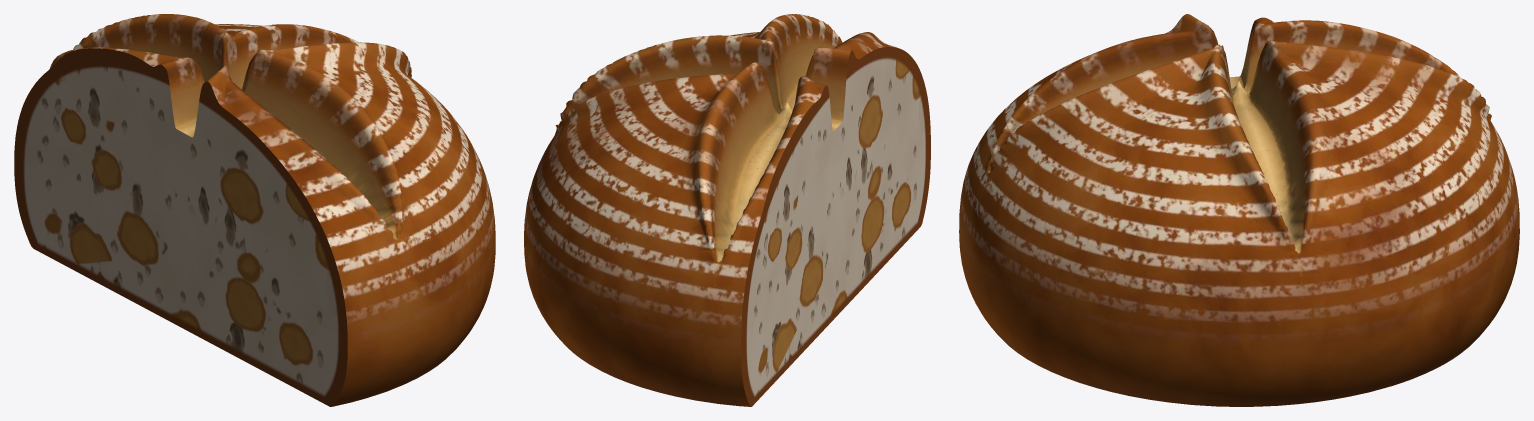
Rendered from campagne--apricot-dried.glb.
3 renders of one model, left to right at view 1: azimuth 30°, elevation 25°; view 2: azimuth 150°, elevation 25°; view 3: azimuth 270°, elevation 25°, orthographic. The views are drawn at different scales.
Visible parts, largest first — view 1: campagne_apricot-dried; view 2: campagne_apricot-dried; view 3: campagne_apricot-dried.
Part boxes in pixels (x1,y1,x2,y2): campagne_apricot-dried: (14, 14, 495, 406); campagne_apricot-dried: (524, 14, 930, 406); campagne_apricot-dried: (959, 14, 1519, 406).
Size of the model in its own units: 0.6675 by 0.5303 by 0.9991.
1 material, 1 textured.
